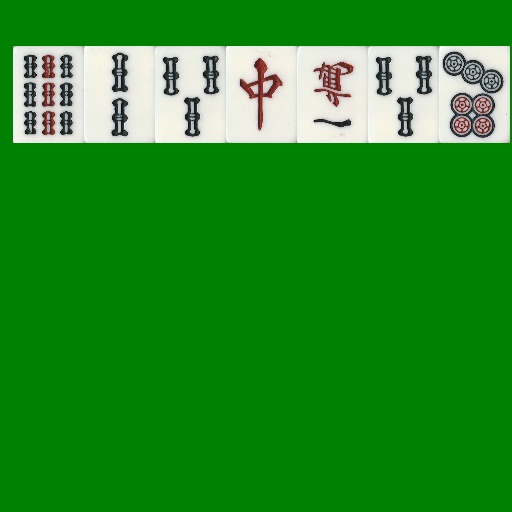1m: (297, 46, 368, 143)
2s: (84, 46, 155, 143)
3s: (155, 46, 226, 143), (368, 46, 439, 143)
7p: (439, 46, 510, 143)
9s: (13, 46, 84, 143)
tyun: (226, 46, 297, 143)
